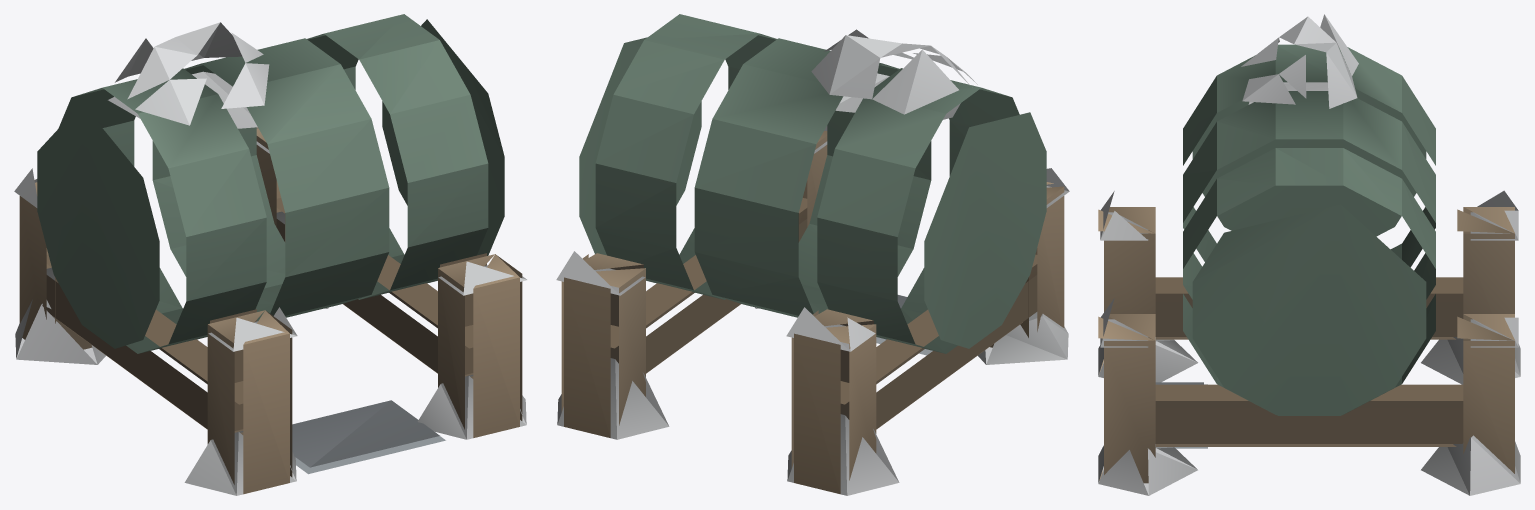
The model's file is drum.lod.glb.
3 views of the same model, side by side, from view 1: azimuth 30°, elevation 25°; view 2: azimuth 150°, elevation 25°; view 3: azimuth 270°, elevation 25° (orthographic). The views are drawn at different scales.
Visible parts, largest first — view 1: drum; view 2: drum; view 3: drum.
Boxes of the visible parts, left/top/right/bottom form: drum: left=14, top=14, right=526, bottom=495; drum: left=556, top=14, right=1069, bottom=495; drum: left=1098, top=14, right=1520, bottom=495.
Size of the model in its own units: 0.9 by 0.9084 by 1.
